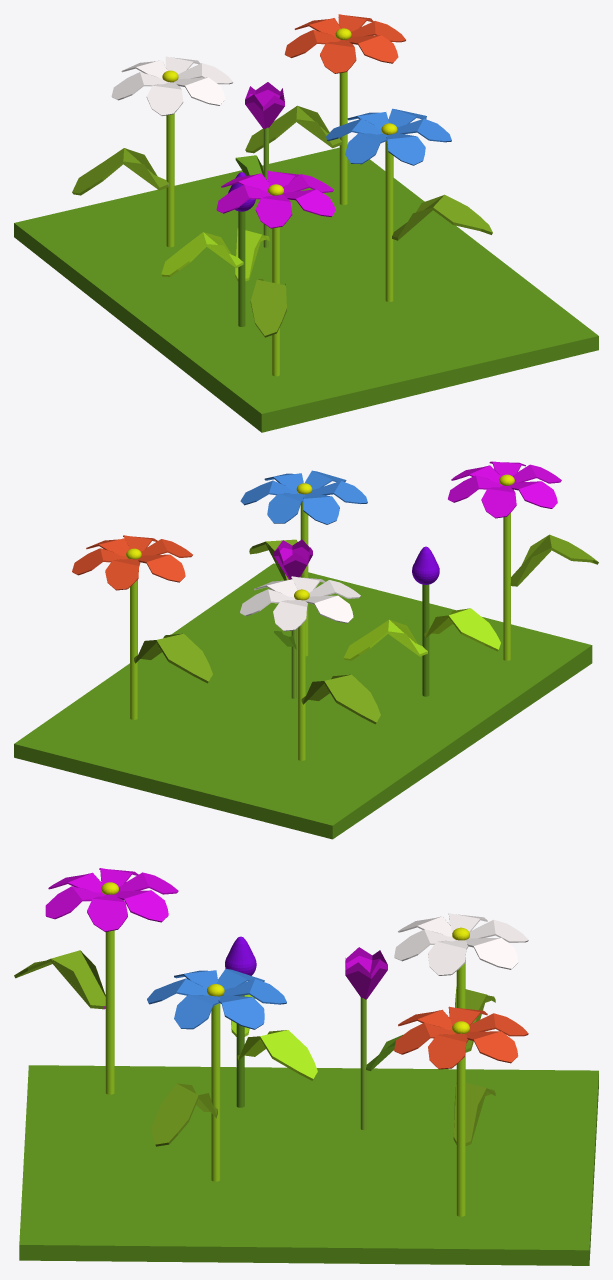
Rendered from flowers 1.fbx.
The picture shows the model from 3 angles, top to bottom: view 1: azimuth 30°, elevation 25°; view 2: azimuth 150°, elevation 25°; view 3: azimuth 270°, elevation 25°; orthographic projection. The views are drawn at different scales.
Parts seen in each view (by area): view 1: Plane.150, Circle.033, Circle.049, Circle.029, Circle.004, Sphere.003, Circle.034, Circle.030, Circle.006, Circle.050, Circle.031, Cylinder.009 (+4 smaller); view 2: Plane.150, Circle.029, Circle.004, Circle.049, Circle.033, Sphere.003, Circle.034, Circle.050, Circle.006, Circle.027, Circle.035, Circle.051 (+4 smaller); view 3: Plane.150, Circle.004, Circle.049, Circle.033, Circle.029, Sphere.003, Circle.030, Circle.006, Circle.031, Circle.027, Circle.051, Cylinder.009 (+5 smaller).
Boxes of the visible parts, left/top/right/bottom form: Plane.150: left=14, top=147, right=598, bottom=432; Circle.033: left=111, top=56, right=233, bottom=185; Circle.049: left=284, top=14, right=405, bottom=73; Circle.029: left=326, top=108, right=451, bottom=165; Circle.004: left=216, top=170, right=335, bottom=228; Sphere.003: left=161, top=228, right=269, bottom=281; Circle.034: left=72, top=148, right=168, bottom=195; Circle.030: left=392, top=194, right=492, bottom=240; Circle.006: left=250, top=279, right=286, bottom=337; Circle.050: left=245, top=105, right=341, bottom=153; Circle.031: left=385, top=141, right=393, bottom=301; Cylinder.009: left=245, top=82, right=284, bottom=128; Plane.150: left=14, top=563, right=592, bottom=839; Circle.029: left=240, top=470, right=367, bottom=524; Circle.004: left=448, top=461, right=561, bottom=518; Circle.049: left=72, top=535, right=192, bottom=590; Circle.033: left=240, top=576, right=360, bottom=631; Sphere.003: left=343, top=608, right=500, bottom=660; Circle.034: left=301, top=674, right=380, bottom=724; Circle.050: left=134, top=633, right=212, bottom=683; Circle.006: left=510, top=534, right=598, bottom=586; Circle.027: left=503, top=513, right=510, bottom=660; Circle.035: left=298, top=621, right=305, bottom=760; Circle.051: left=130, top=580, right=137, bottom=719; Plane.150: left=19, top=1065, right=598, bottom=1265; Circle.004: left=45, top=868, right=178, bottom=1009; Circle.049: left=394, top=1006, right=528, bottom=1069; Circle.033: left=394, top=913, right=528, bottom=975; Circle.029: left=147, top=968, right=286, bottom=1029; Sphere.003: left=231, top=994, right=317, bottom=1080; Circle.030: left=151, top=1083, right=217, bottom=1146; Circle.006: left=14, top=950, right=105, bottom=1009; Circle.031: left=211, top=1003, right=220, bottom=1181; Circle.027: left=105, top=930, right=114, bottom=1094; Circle.051: left=456, top=1052, right=465, bottom=1216; Cylinder.009: left=345, top=947, right=387, bottom=999.
Size of the model in its own units: 22.11 by 12.68 by 29.18.
